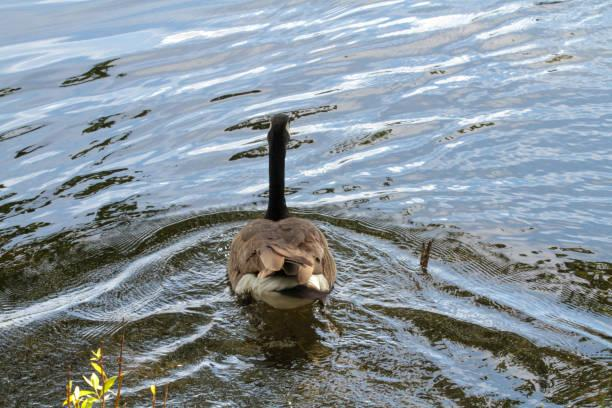Canadian-Goose: (218, 110, 340, 306)
